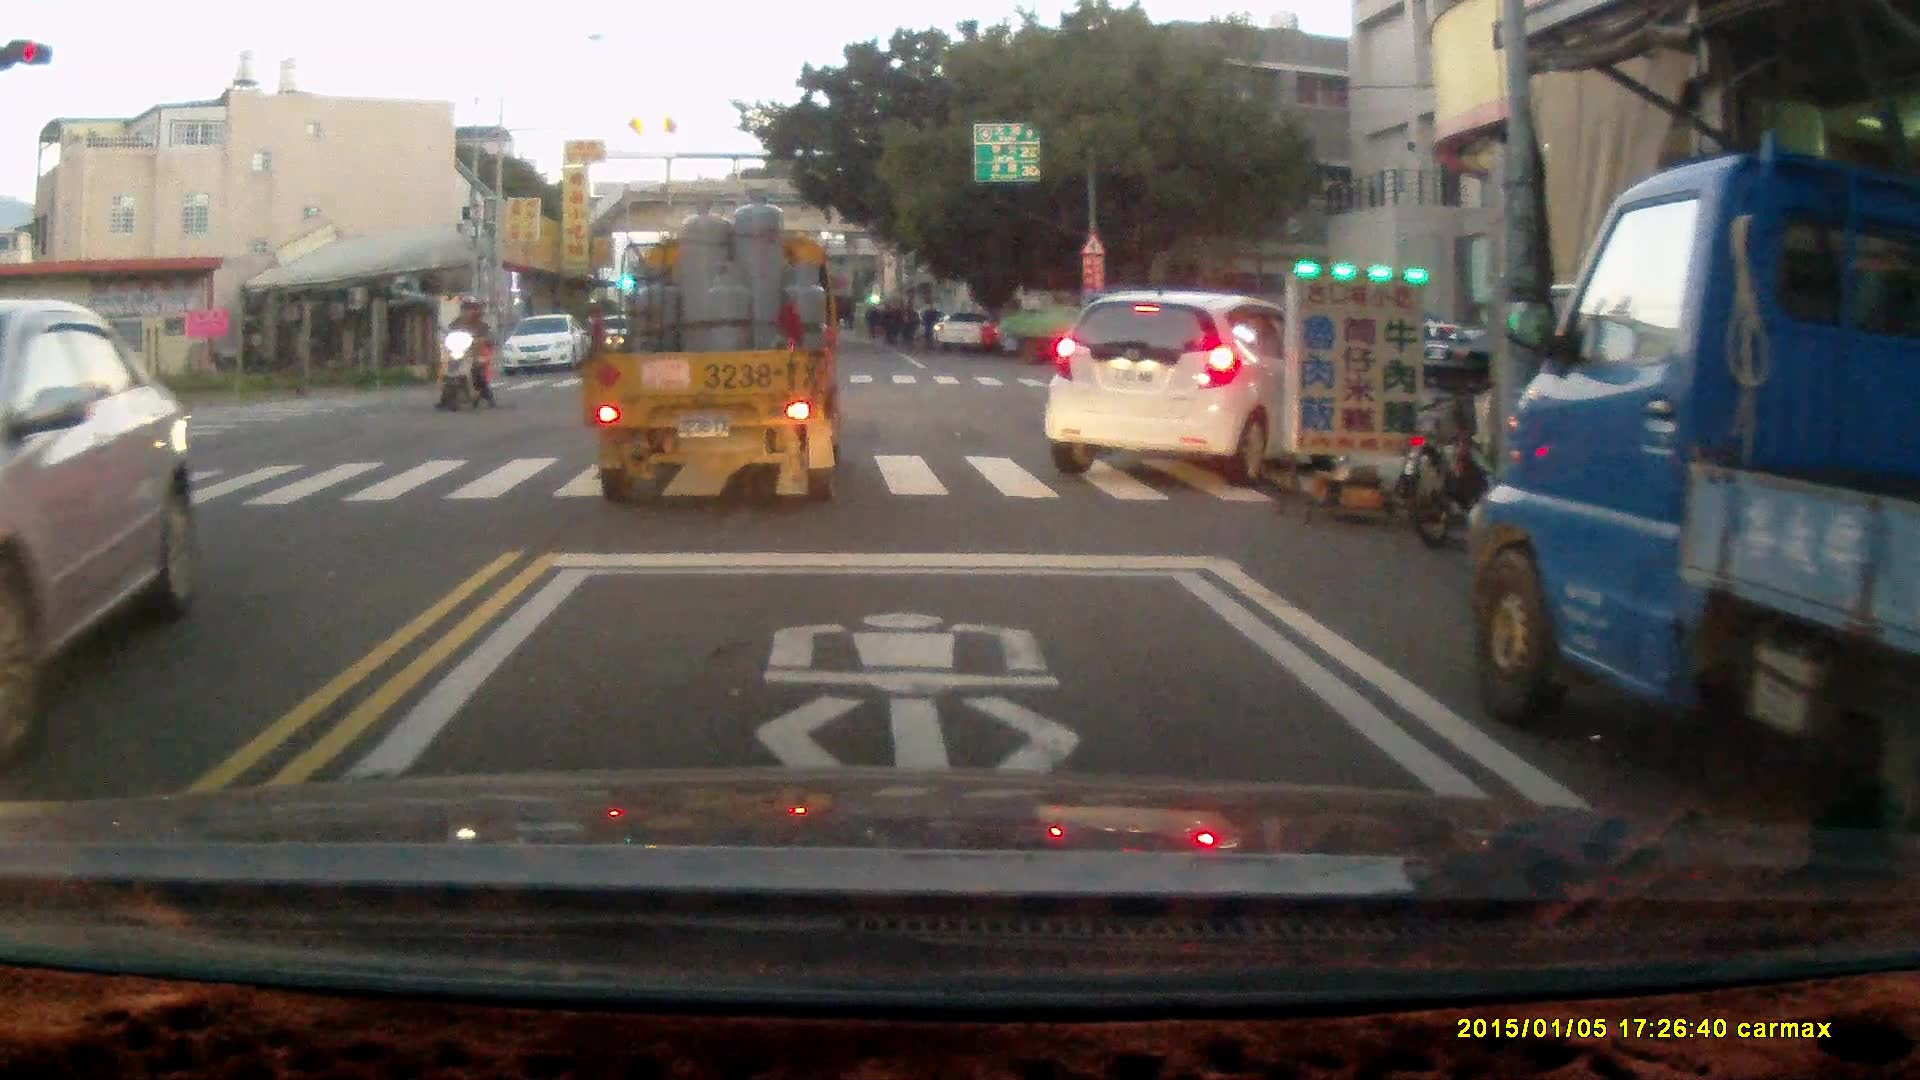rider: (435, 299, 494, 413)
vehicle: (1461, 149, 1920, 808), (1, 296, 196, 746), (580, 196, 848, 508), (1041, 288, 1323, 469), (1002, 284, 1169, 367), (506, 312, 588, 379)
